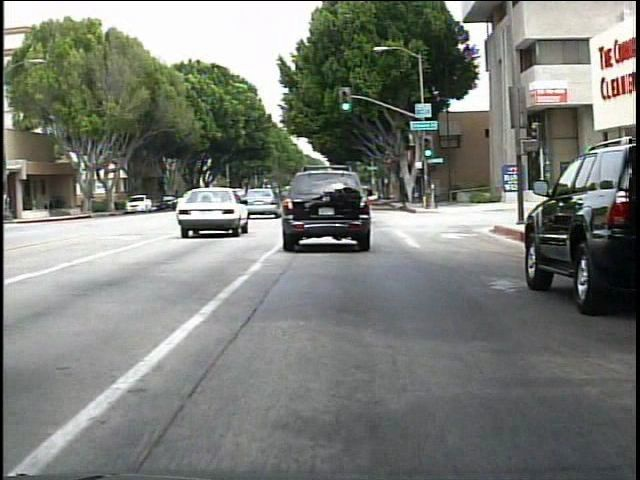person: (5, 189, 21, 220)
